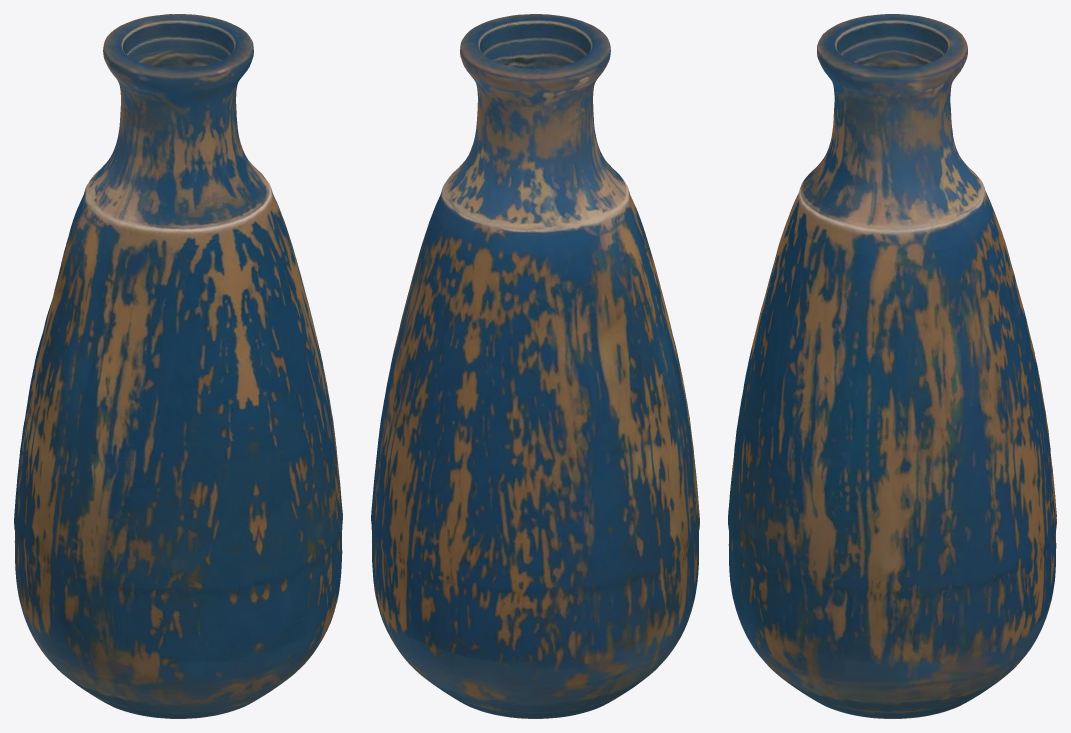
The model's file is Blue Vase.glb.
3 views of the same model, side by side, from view 1: azimuth 30°, elevation 25°; view 2: azimuth 150°, elevation 25°; view 3: azimuth 270°, elevation 25° (orthographic).
Visible parts, largest first — view 1: mesh_node; view 2: mesh_node; view 3: mesh_node.
Boxes of the visible parts, <box> form: mesh_node: <box>14,14,342,718</box>; mesh_node: <box>371,14,699,718</box>; mesh_node: <box>728,14,1056,718</box>.
Bounding box in the file's own units: 0.8667 × 1.9 × 0.8671.
1 material, 1 textured.
